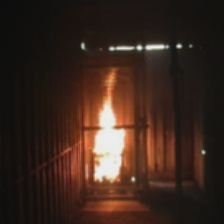fire: (87, 94, 130, 185)
